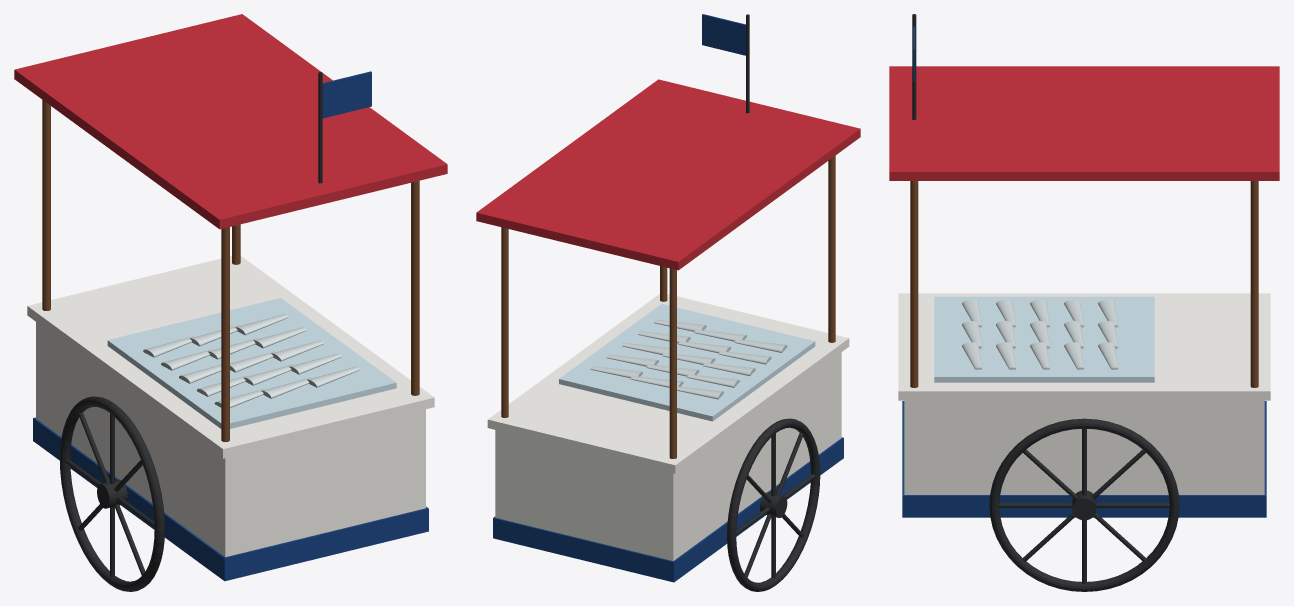
File: herring-cart.glb
3 views of the same model, side by side, from view 1: azimuth 30°, elevation 25°; view 2: azimuth 150°, elevation 25°; view 3: azimuth 270°, elevation 25° (orthographic). The views are drawn at different scales.
Parts seen in each view (by area): view 1: Cube.004, Cube, Cube.002, Cube.003, Cube.001, Torus, Cylinder.020, Cylinder.018, Cylinder.019, Cube.005, Cylinder, Cylinder.004; view 2: Cube.004, Cube, Cube.002, Cube.003, Cube.001, Torus, Cylinder.019, Cylinder.021, Cylinder.018, Cube.005, Cylinder.001; view 3: Cube.004, Cube, Cube.002, Cube.003, Cube.001, Torus.001, Cylinder.020, Cylinder.021, Cylinder.012, Cylinder.013, Cylinder.011, Cylinder.009 (+3 smaller).
Boxes of the visible parts, <box> form: Cube.004: <box>14,14,447,229</box>; Cube: <box>36,322,425,556</box>; Cube.002: <box>27,256,434,458</box>; Cube.003: <box>107,298,396,428</box>; Cube.001: <box>33,417,428,581</box>; Torus: <box>59,396,164,591</box>; Cylinder.020: <box>411,180,419,395</box>; Cylinder.018: <box>221,227,229,441</box>; Cylinder.019: <box>42,100,50,310</box>; Cube.005: <box>322,71,371,118</box>; Cylinder: <box>97,479,127,508</box>; Cylinder.004: <box>78,412,142,575</box>; Cube.004: <box>476,79,860,270</box>; Cube: <box>495,352,841,560</box>; Cube.002: <box>487,294,849,473</box>; Cube.003: <box>559,304,815,421</box>; Cube.001: <box>493,437,843,582</box>; Torus: <box>727,418,820,591</box>; Cylinder.019: <box>669,268,676,458</box>; Cylinder.021: <box>501,227,508,417</box>; Cylinder.018: <box>828,155,835,342</box>; Cube.005: <box>702,14,745,55</box>; Cylinder.001: <box>771,433,775,578</box>; Cube.004: <box>889,66,1279,180</box>; Cube: <box>904,400,1264,494</box>; Cube.002: <box>898,293,1270,400</box>; Cube.003: <box>934,296,1154,382</box>; Cube.001: <box>902,401,1266,517</box>; Torus.001: <box>989,418,1179,591</box>; Cylinder.020: <box>910,181,918,387</box>; Cylinder.021: <box>1250,181,1258,387</box>; Cylinder.012: <box>998,503,1170,507</box>; Cylinder.013: <box>1023,449,1145,561</box>; Cylinder.011: <box>1023,451,1146,561</box>; Cylinder.009: <box>1072,490,1096,520</box>.
Bounding box in the file's own units: 1.4 × 2.87 × 1.95.
